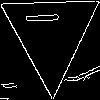I: (26, 9, 67, 25)
